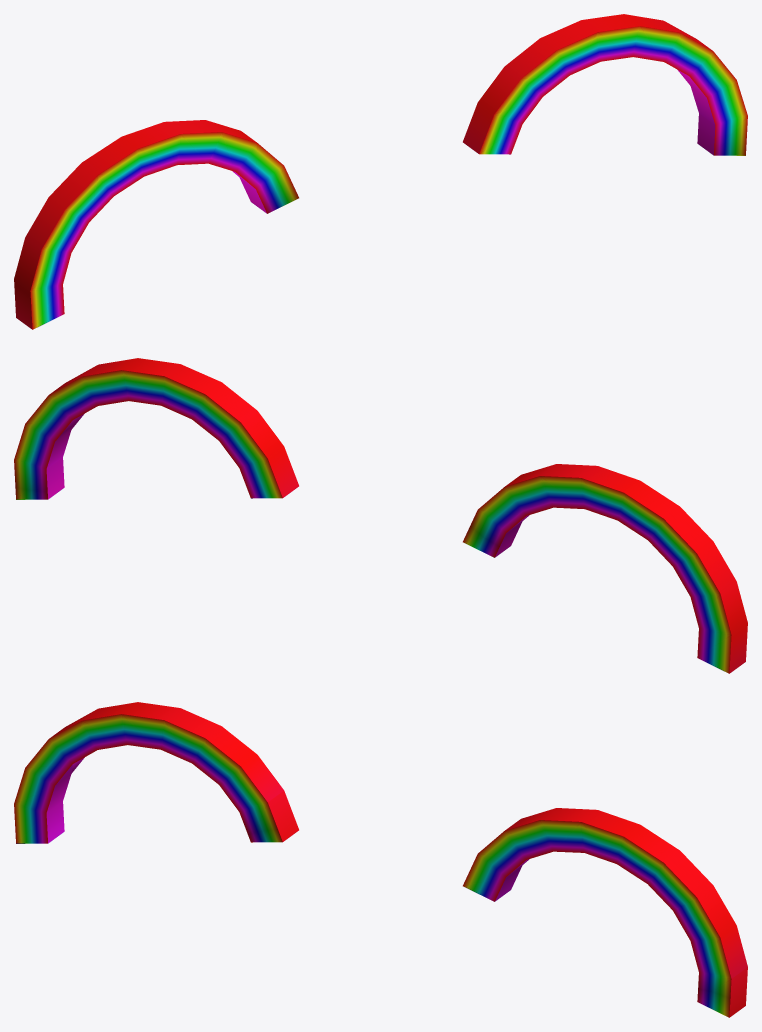
The model's file is Arcoiris.obj.
3 renders of one model, top to bottom at view 1: azimuth 30°, elevation 25°; view 2: azimuth 150°, elevation 25°; view 3: azimuth 330°, elevation 25°, orthographic.
Parts seen in each view (by area): view 1: pCylinder4, pasted__pCylinder4 group145; view 2: pCylinder4, pasted__pCylinder4 group145; view 3: pasted__pCylinder4 group145, pCylinder4.
Boxes of the visible parts, x1,y1,x2,y2 form: pCylinder4: (14,120,298,329); pasted__pCylinder4 group145: (463,14,747,155); pCylinder4: (463,464,747,673); pasted__pCylinder4 group145: (14,358,298,499); pasted__pCylinder4 group145: (463,808,747,1017); pCylinder4: (14,702,298,843).
Bounding box in the file's own units: 17.02 × 3.62 × 0.6761.
